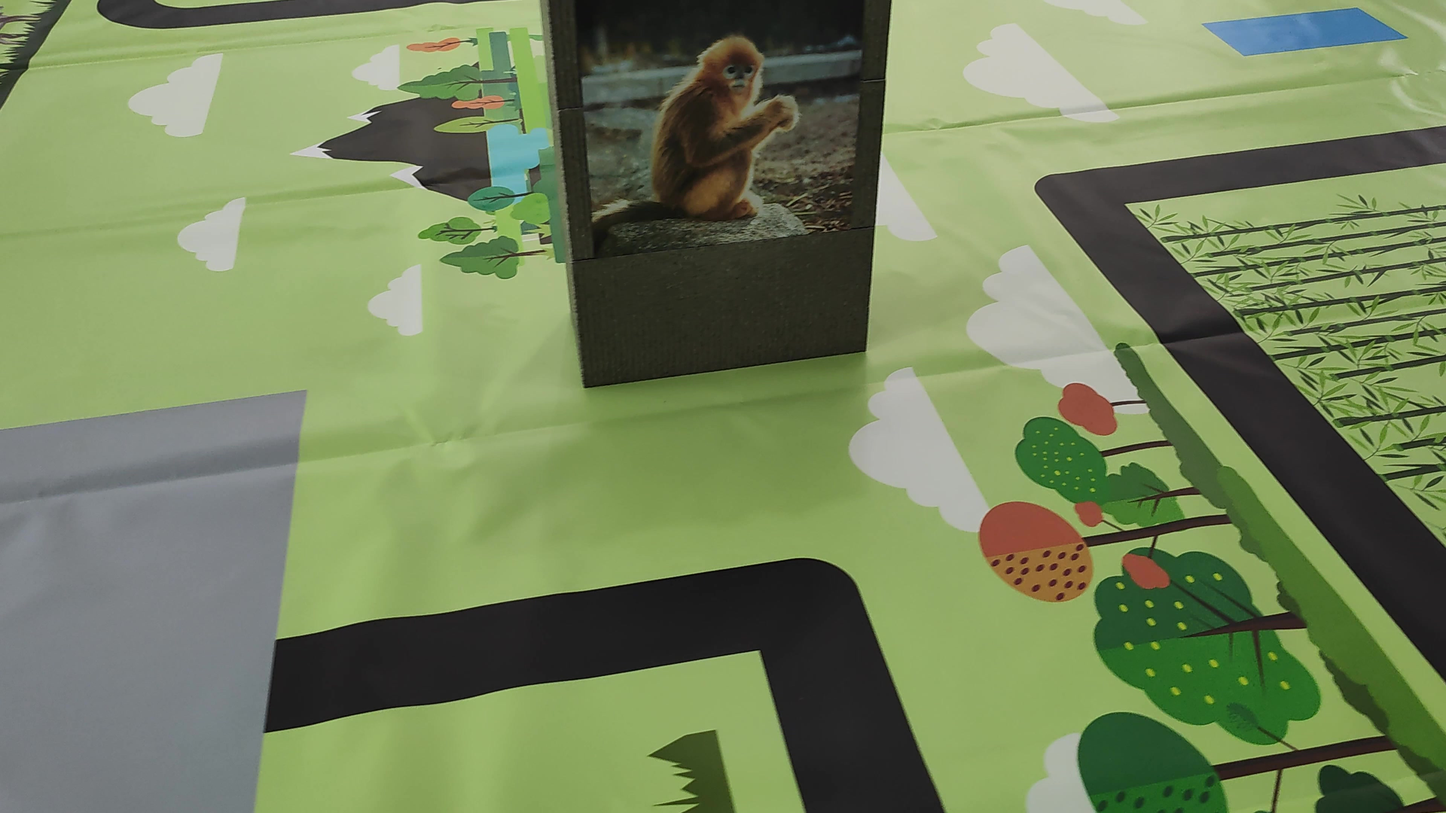monkey: (614, 20, 834, 239)
